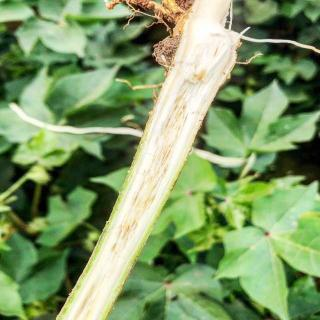wilt: (95, 48, 235, 276)
